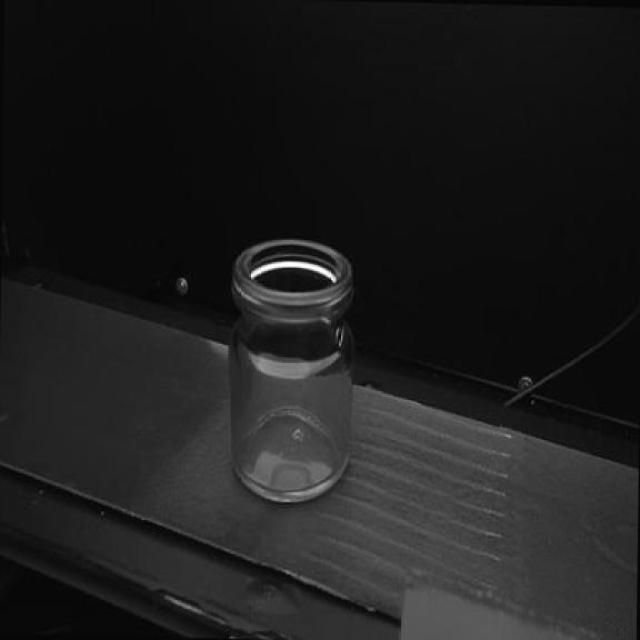defect: (336, 325, 346, 349)
glass: (224, 235, 360, 501)
